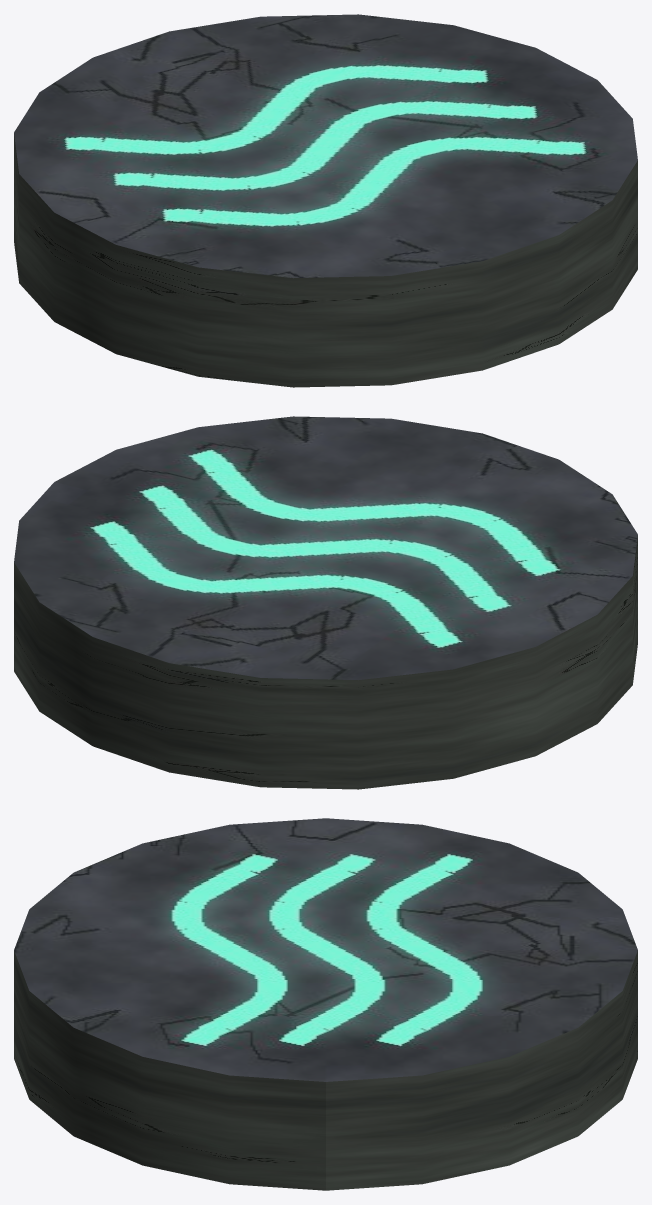
File: rune_4.glb
3 renders of one model, top to bottom at view 1: azimuth 30°, elevation 25°; view 2: azimuth 150°, elevation 25°; view 3: azimuth 270°, elevation 25°, orthographic.
Visible parts, largest first — view 1: rune; view 2: rune; view 3: rune.
Boxes of the visible parts, x1,y1,x2,y2 form: rune: (14, 14, 637, 387); rune: (14, 416, 637, 789); rune: (14, 818, 637, 1190).
Size of the model in its own units: 0.26 by 0.05 by 0.26.
2 materials, 2 textured.
